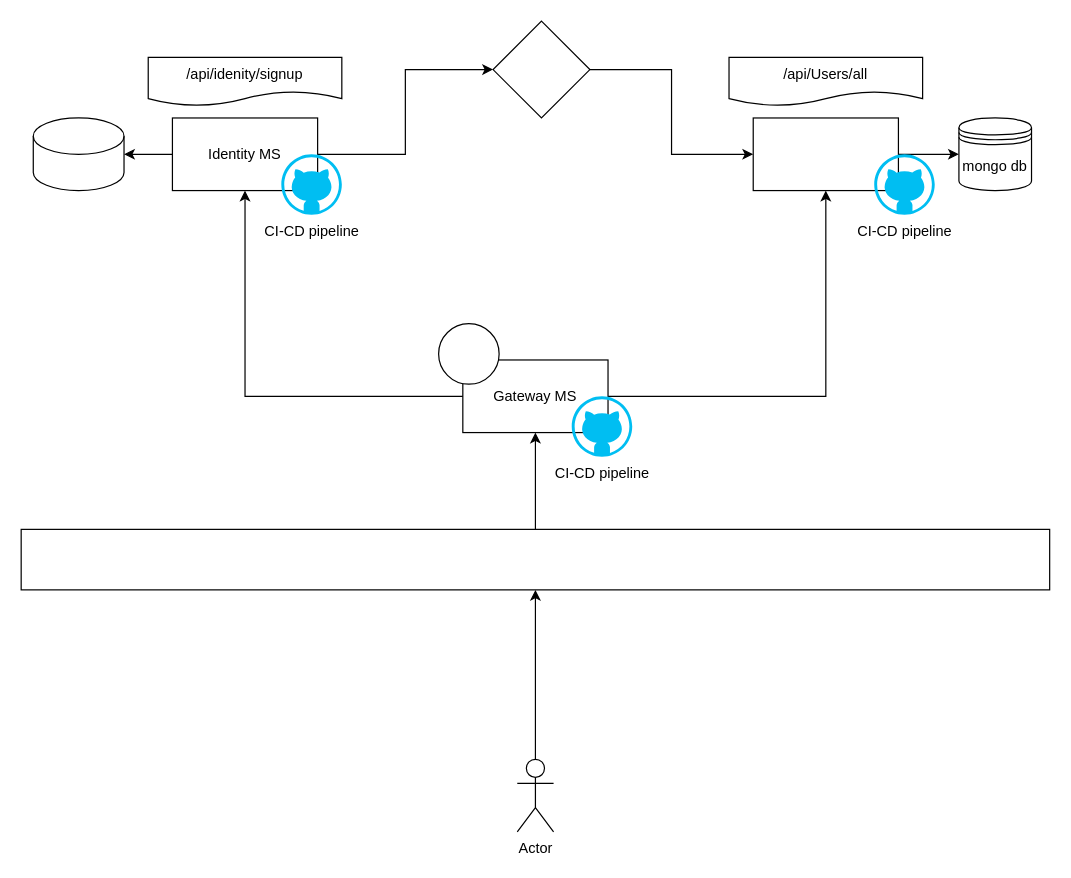
This 1071x878 diagram has some shape labels left out. Here are the shapes that lost their labels. From the top down, the centre of each, then its label:
(541,69): rabbit mq
(78,154): identity db
(825,154): Users MS
(468,353): expose
(535,559): AZURE VM
